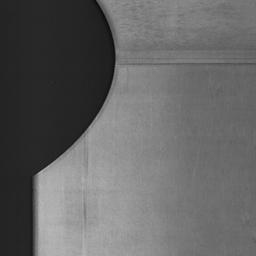Crescent gap: (35, 0, 116, 174)
